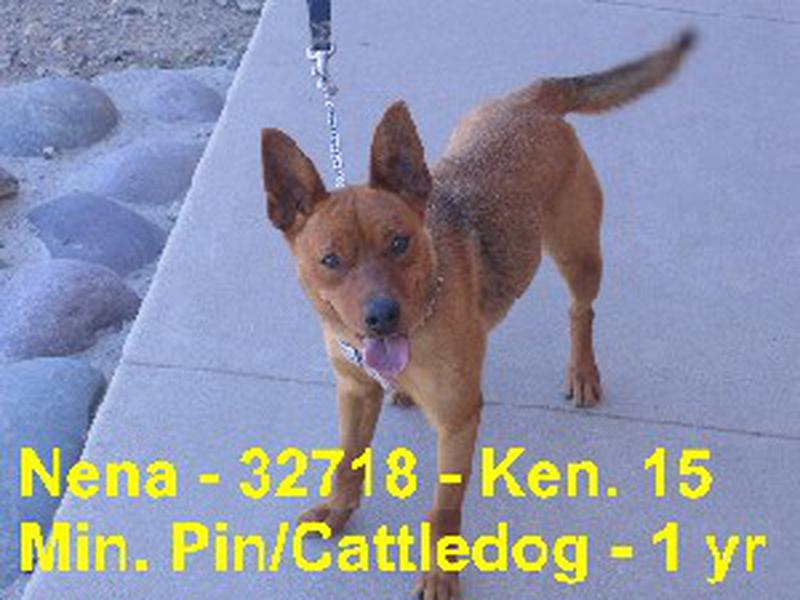dog: (246, 95, 638, 599)
